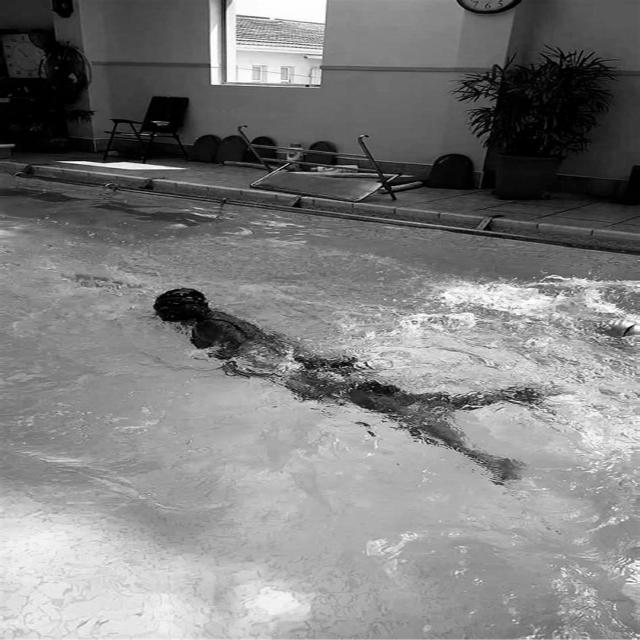swimming: (119, 272, 459, 513)
